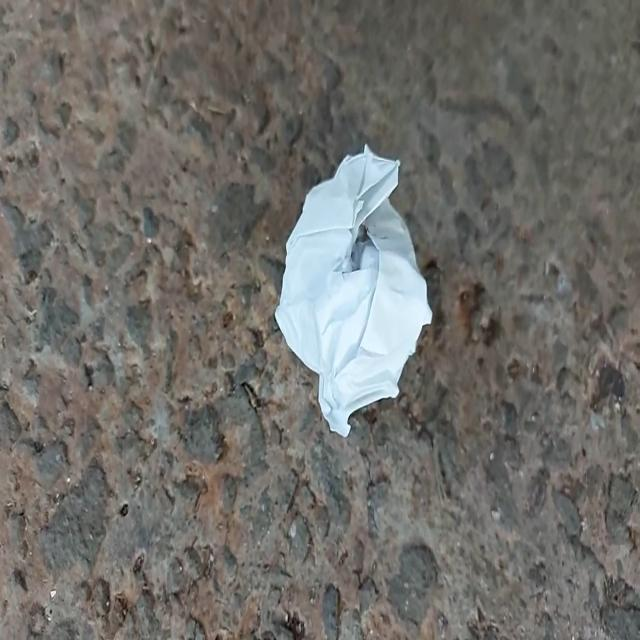Paper: (262, 125, 443, 442)
